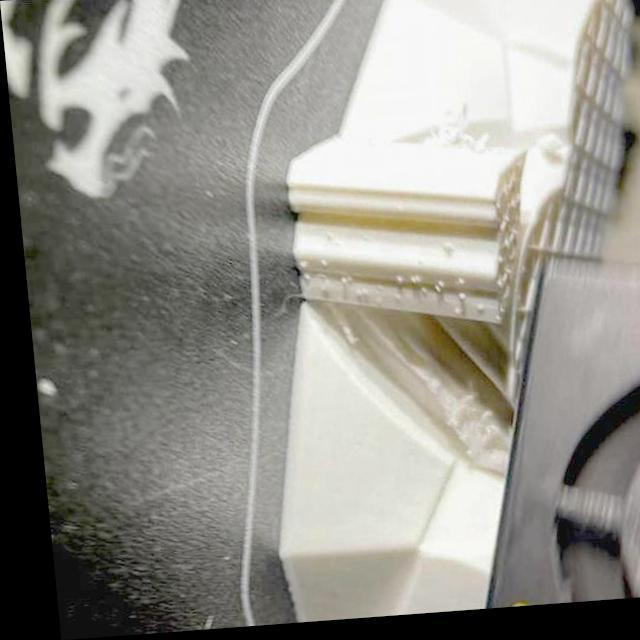zits: (432, 243, 450, 264), (329, 275, 346, 294), (403, 278, 420, 294), (348, 290, 367, 304), (288, 260, 307, 274), (425, 286, 441, 302), (444, 308, 459, 324), (309, 258, 324, 273), (448, 296, 462, 310), (386, 276, 400, 290), (384, 296, 399, 309), (448, 280, 461, 293), (468, 308, 480, 320), (294, 276, 306, 286)
